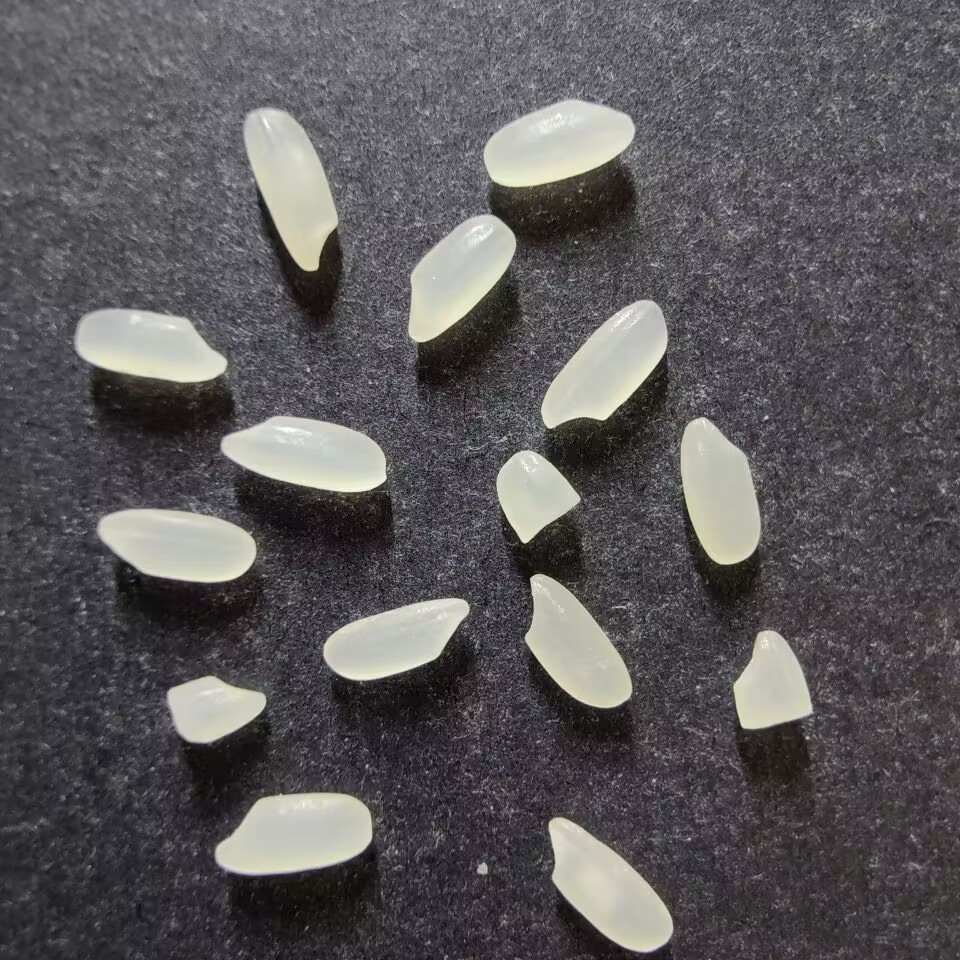broken: (732, 629, 813, 730), (495, 449, 581, 544), (166, 674, 267, 745)
rice: (547, 816, 673, 953), (540, 299, 668, 429), (243, 107, 338, 272), (523, 573, 633, 709), (405, 214, 516, 342), (482, 98, 634, 188), (214, 792, 373, 875), (220, 415, 387, 493), (322, 597, 470, 681), (97, 508, 256, 584), (679, 417, 759, 565), (74, 308, 226, 383)
